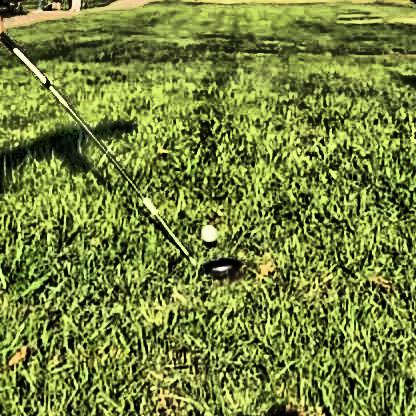golfball: (197, 220, 216, 241)
